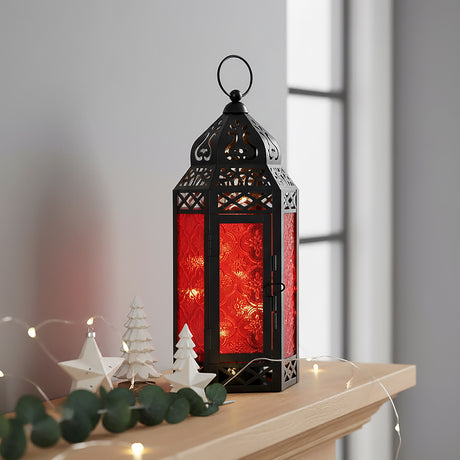Open-Flame-Hazard: (163, 40, 315, 397)
